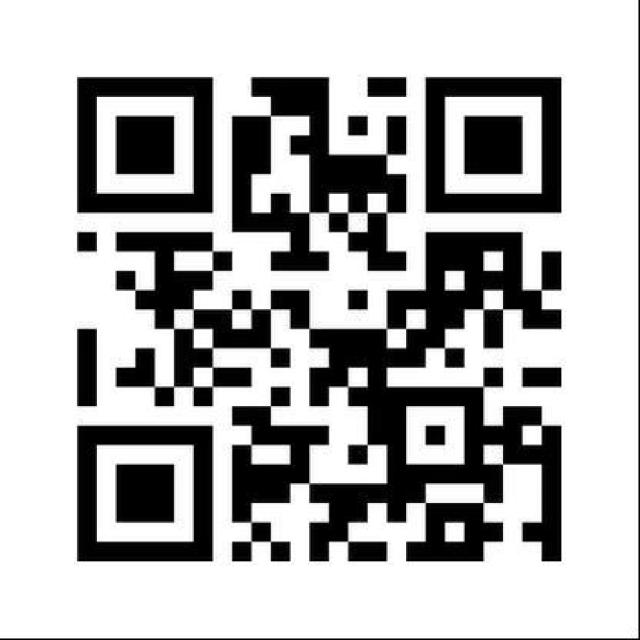QRCode: (63, 60, 582, 571)
